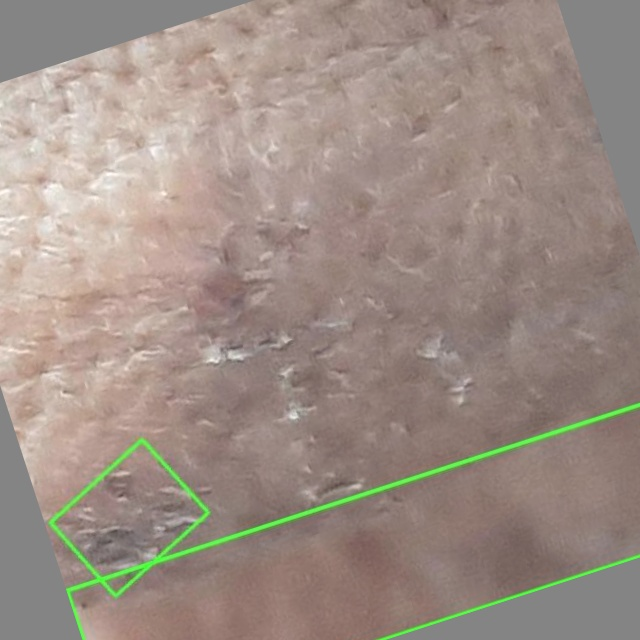Eczema: (67, 404, 639, 639), (51, 440, 208, 596)
